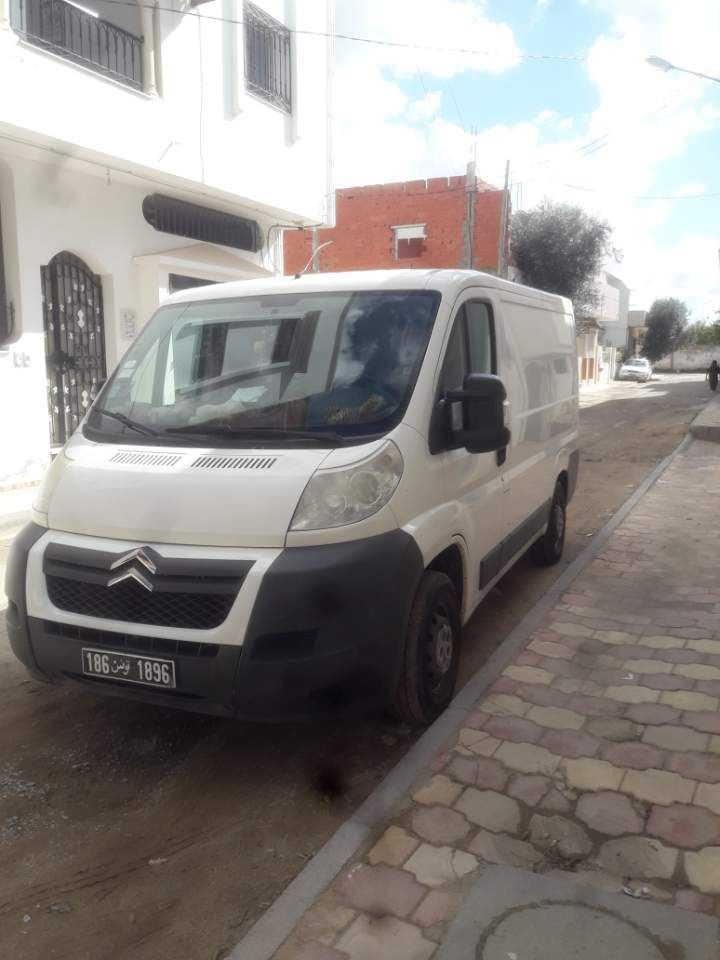LP: (80, 647, 176, 689)
